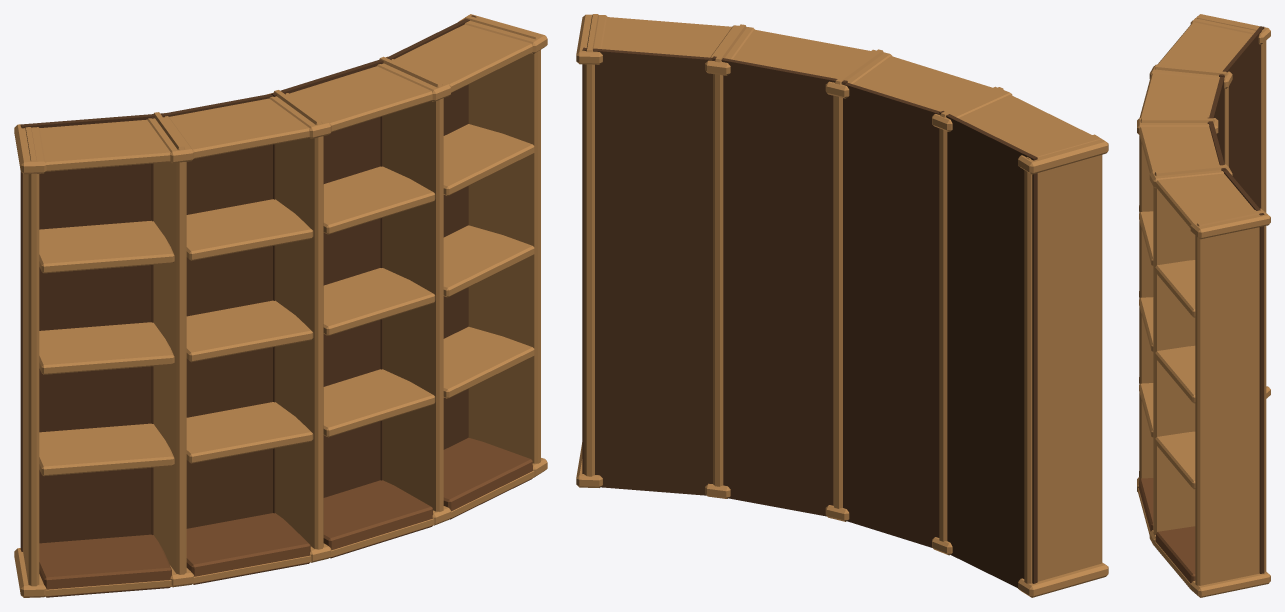
The model's file is curved_bookshelf.glb.
3 views of the same model, side by side, from view 1: azimuth 30°, elevation 25°; view 2: azimuth 150°, elevation 25°; view 3: azimuth 270°, elevation 25° (orthographic). The views are drawn at different scales.
Visible parts, largest first — view 1: curved_bookshelf; view 2: curved_bookshelf; view 3: curved_bookshelf.
Boxes of the visible parts, left/top/right/bottom form: curved_bookshelf: left=14, top=14, right=547, bottom=597; curved_bookshelf: left=576, top=14, right=1108, bottom=597; curved_bookshelf: left=1137, top=14, right=1270, bottom=597.
Size of the model in its own units: 2.28 by 1.82 by 0.5943.
